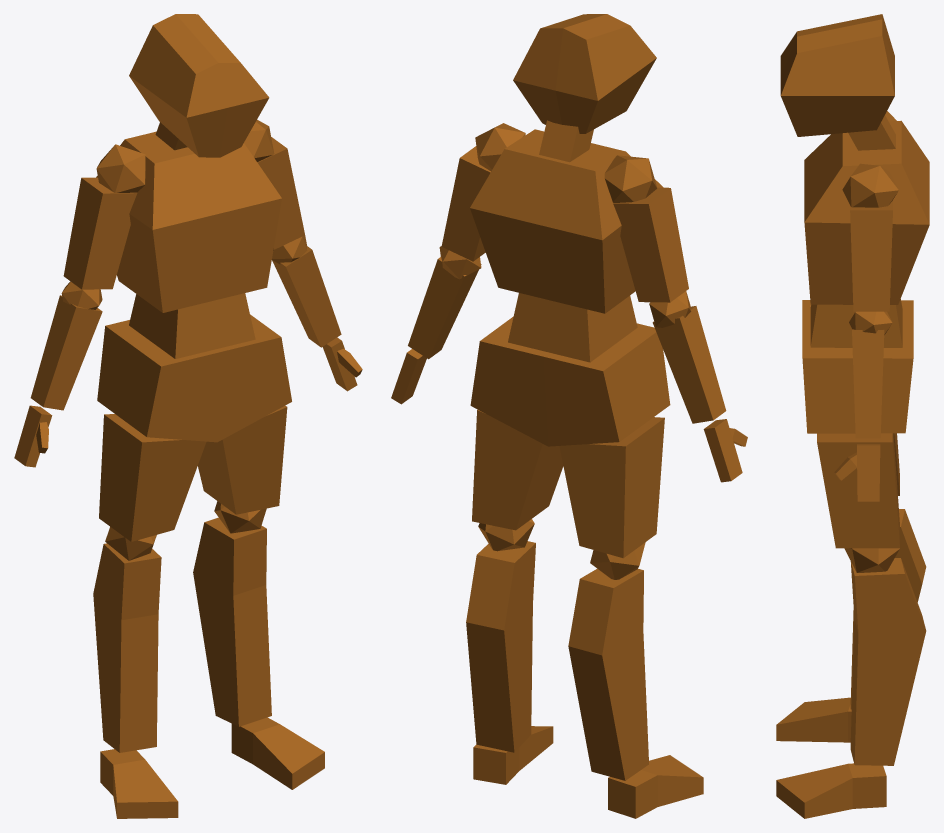
The model's file is person.fbx.
3 renders of one model, left to right at view 1: azimuth 30°, elevation 25°; view 2: azimuth 150°, elevation 25°; view 3: azimuth 270°, elevation 25°, orthographic. The views are drawn at different scales.
Parts seen in each view (by area): view 1: Cube.002, Cube.004, Cube.006, Cube, Cube.017, Cube.016, Cube.005, Cube.012, Cube.003, Cube.013, Cube.007, Cube.018 (+10 smaller); view 2: Cube.002, Cube.004, Cube.017, Cube.006, Cube, Cube.016, Cube.005, Cube.012, Cube.003, Cube.013, Cube.018, Cube.009 (+11 smaller); view 3: Cube.002, Cube.006, Cube, Cube.004, Cube.005, Cube.007, Cube.008, Cube.009, Cube.018, Cube.003, Icosphere.001, Cube.017 (+5 smaller).
Boxes of the visible parts, x1,y1,x2,y2 form: Cube.002: [96, 131, 281, 312]; Cube.004: [97, 314, 291, 442]; Cube.006: [193, 517, 271, 726]; Cube: [129, 14, 269, 157]; Cube.017: [93, 543, 161, 752]; Cube.016: [99, 414, 206, 541]; Cube.005: [198, 405, 287, 514]; Cube.012: [63, 177, 137, 289]; Cube.003: [129, 293, 255, 358]; Cube.013: [30, 295, 102, 410]; Cube.007: [231, 717, 324, 789]; Cube.018: [100, 749, 178, 818]; Cube.002: [470, 129, 663, 313]; Cube.004: [470, 316, 670, 446]; Cube.017: [568, 568, 648, 780]; Cube.006: [466, 541, 535, 752]; Cube: [513, 14, 656, 133]; Cube.016: [559, 417, 664, 558]; Cube.005: [472, 409, 563, 530]; Cube.012: [613, 187, 688, 302]; Cube.003: [508, 293, 637, 362]; Cube.013: [652, 306, 726, 423]; Cube.018: [608, 755, 703, 818]; Cube.009: [408, 257, 481, 359]; Cube.002: [804, 120, 929, 304]; Cube.006: [850, 558, 926, 765]; Cube: [780, 14, 894, 136]; Cube.004: [802, 300, 913, 433]; Cube.005: [817, 433, 899, 548]; Cube.007: [776, 763, 886, 818]; Cube.008: [850, 201, 892, 311]; Cube.009: [852, 329, 884, 438]; Cube.018: [776, 697, 851, 742]; Cube.003: [810, 299, 902, 347]; Icosphere.001: [842, 163, 898, 207]; Cube.017: [850, 509, 926, 709].
Bounding box in the file's own units: 408 × 883 × 165.
